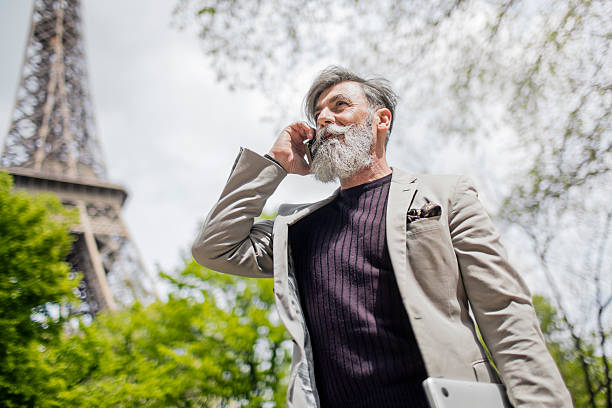phone: (289, 130, 325, 174)
talk: (283, 96, 372, 181)
